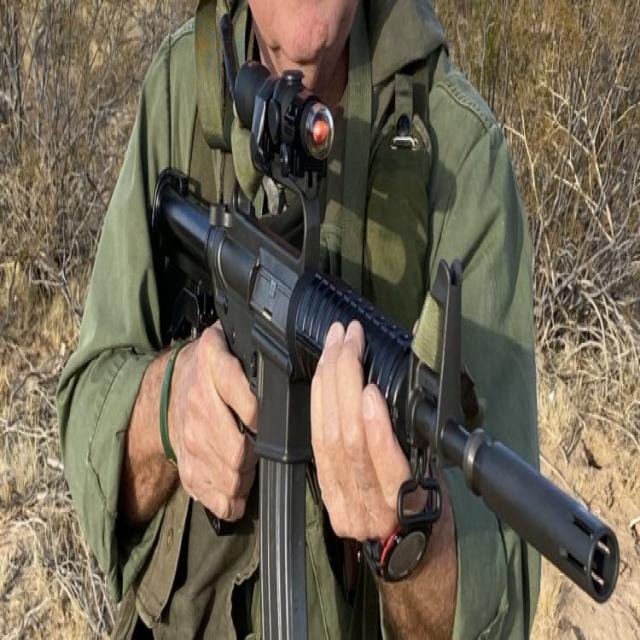soldier: (57, 2, 620, 640)
